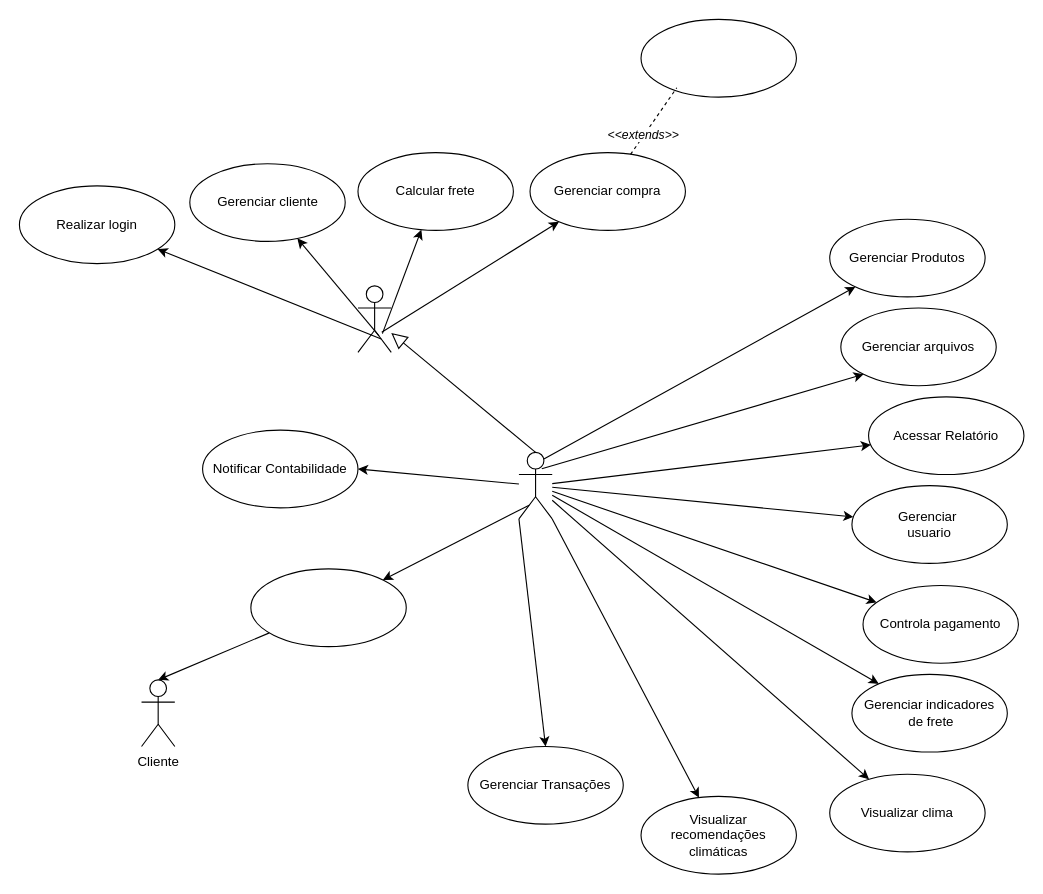
Image size: 1043x894. Some labels were removed from this diagram. The shapes that lost their labels are listed below. From the top down, each one's box as (x1, y1, x2, y2) in pixels, then its label:
(640, 18, 796, 97): Gerenciar agrupamento de compra
(357, 285, 391, 352): Funcionario
(518, 451, 552, 519): Gestor
(250, 568, 406, 647): Notificar cliente
